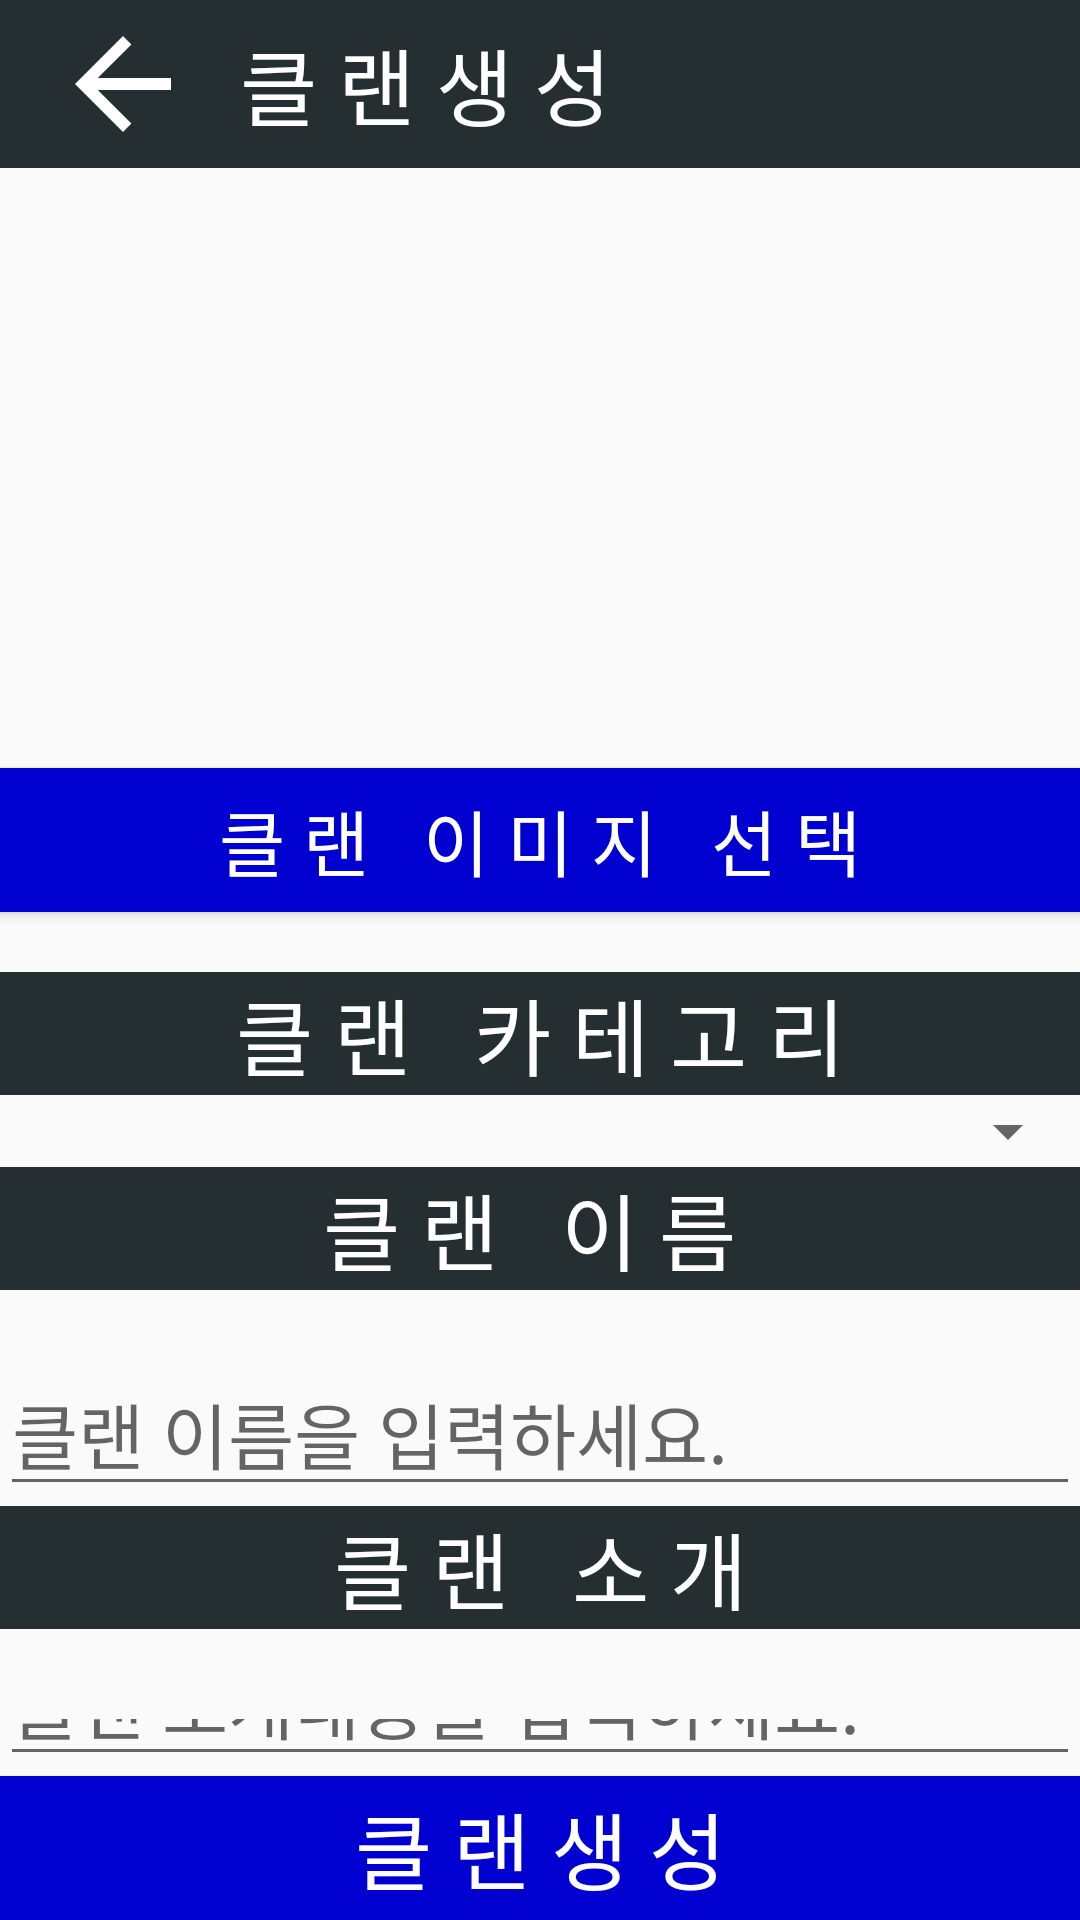

Icons on this 1080*1920 Android screen, each with its box as rect(x1, y1, x2, y2):
back toolbar: rect(75, 36, 171, 132)
